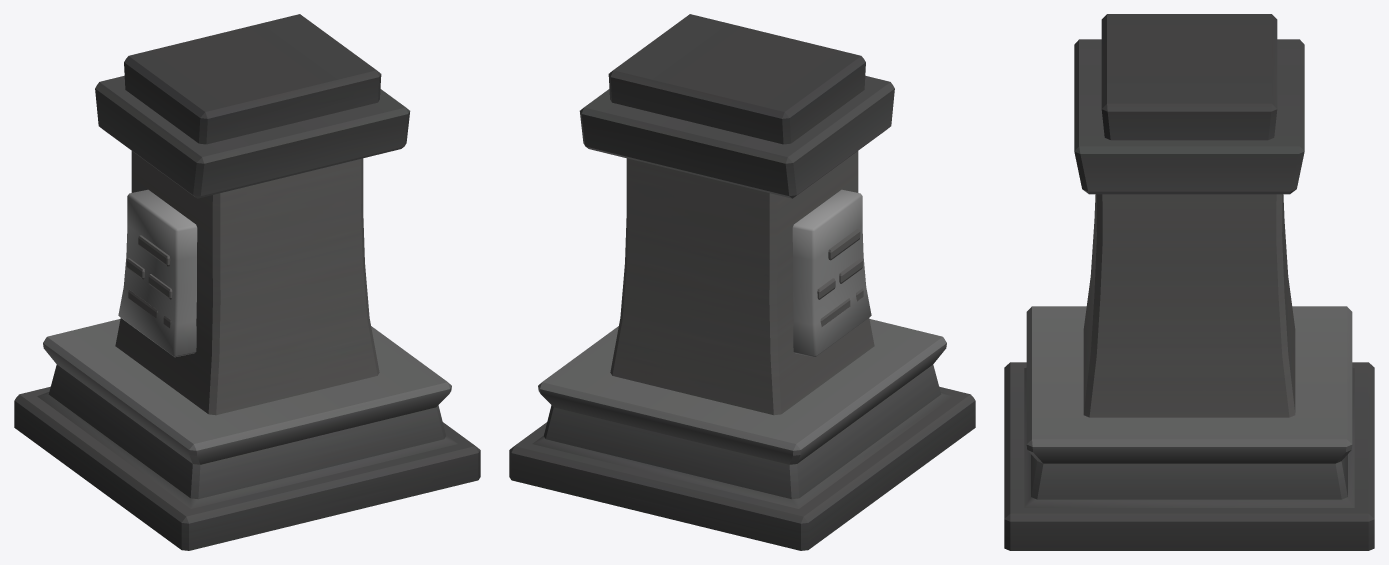
The model's file is Monument_1.glb.
3 views of the same model, side by side, from view 1: azimuth 30°, elevation 25°; view 2: azimuth 150°, elevation 25°; view 3: azimuth 270°, elevation 25° (orthographic). The views are drawn at different scales.
Parts seen in each view (by area): view 1: Monument_1; view 2: Monument_1; view 3: Monument_1.
Part boxes in pixels (x1,y1,x2,y2): Monument_1: (14,14,480,550); Monument_1: (509,14,975,550); Monument_1: (1004,14,1374,550).
Size of the model in its own units: 1.09 by 1.35 by 1.09.
1 material, 1 textured.
